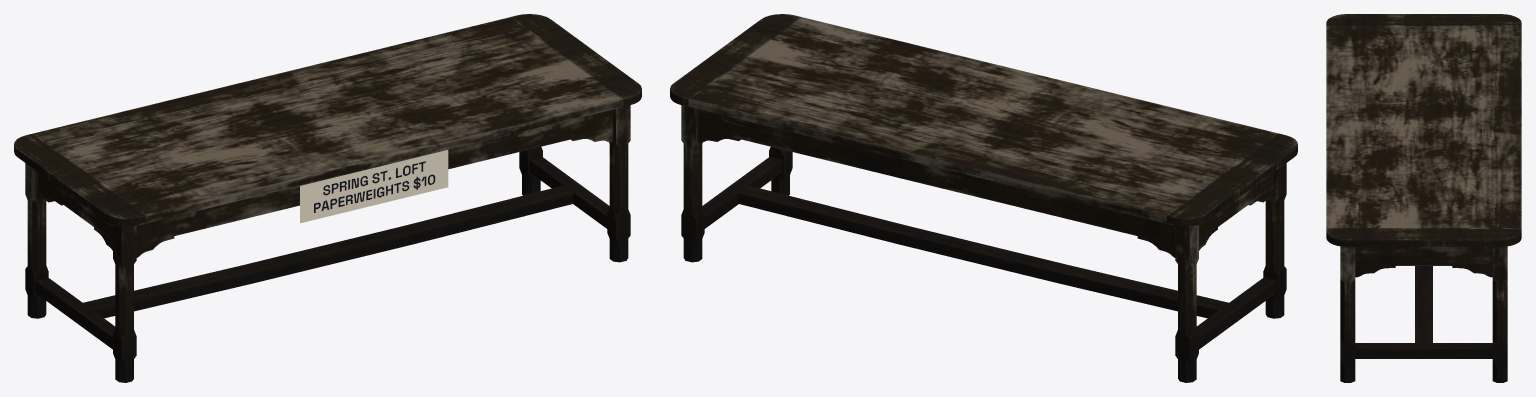
The model's file is nyb_afterhours_table.glb.
3 views of the same model, side by side, from view 1: azimuth 30°, elevation 25°; view 2: azimuth 150°, elevation 25°; view 3: azimuth 270°, elevation 25° (orthographic). The views are drawn at different scales.
Visible parts, largest first — view 1: WoodenTable_01, stk_lbl_d8ff6f6285.png; view 2: WoodenTable_01; view 3: WoodenTable_01.
Part boxes in pixels (x1=…): WoodenTable_01: x1=14, y1=14, x2=641, y2=382; stk_lbl_d8ff6f6285.png: x1=300, y1=150, x2=448, y2=223; WoodenTable_01: x1=670, y1=14, x2=1297, y2=382; WoodenTable_01: x1=1326, y1=14, x2=1521, y2=382.
Bounding box in the file's own units: 1.8 × 0.5488 × 0.6572.
2 materials, 2 textured.
